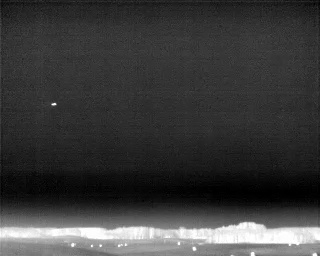AIRPLANE: (50, 100, 58, 108)
